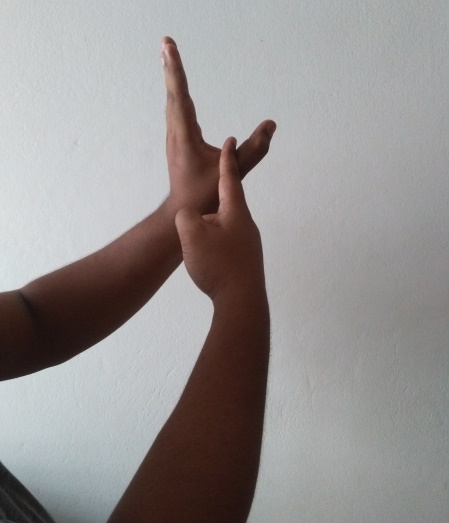dh: (156, 34, 276, 300)
